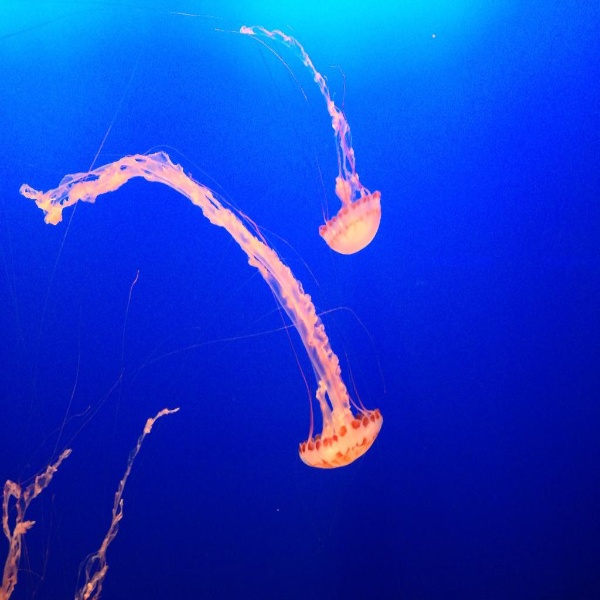Jellyfish: (17, 141, 386, 470), (152, 6, 381, 253)
